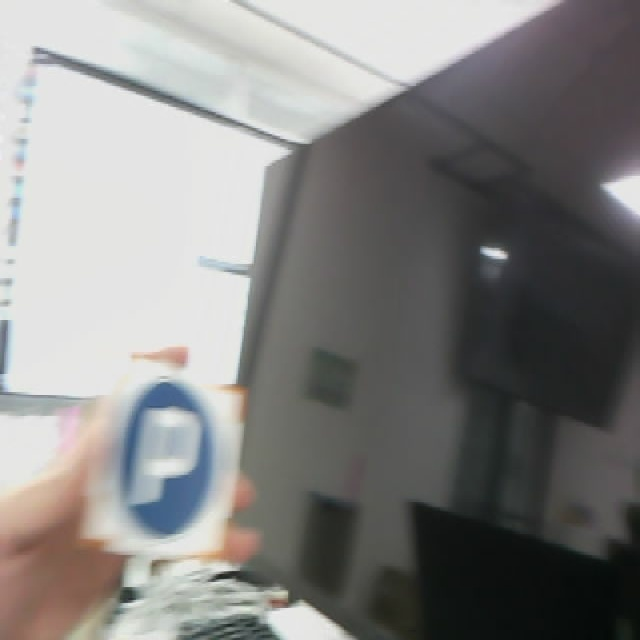parking: (73, 359, 248, 560)
